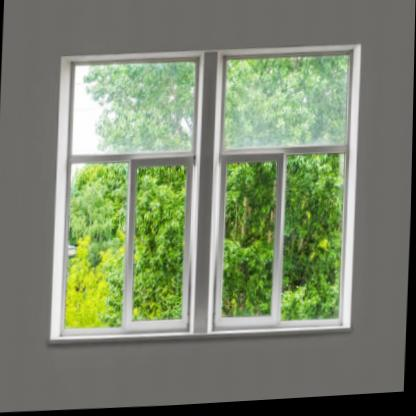Window: (63, 50, 194, 347), (218, 54, 353, 337)
